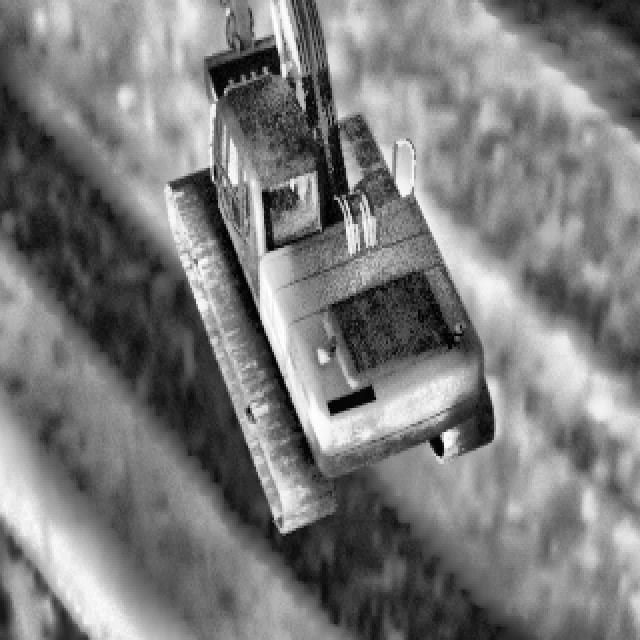excavator: (164, 0, 492, 531)
